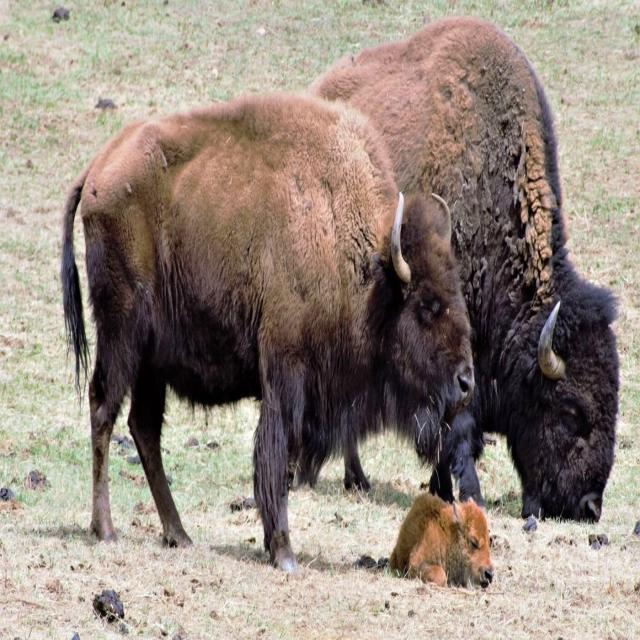bison: (61, 94, 475, 568), (312, 18, 619, 521), (389, 493, 494, 587), (344, 441, 369, 491)
